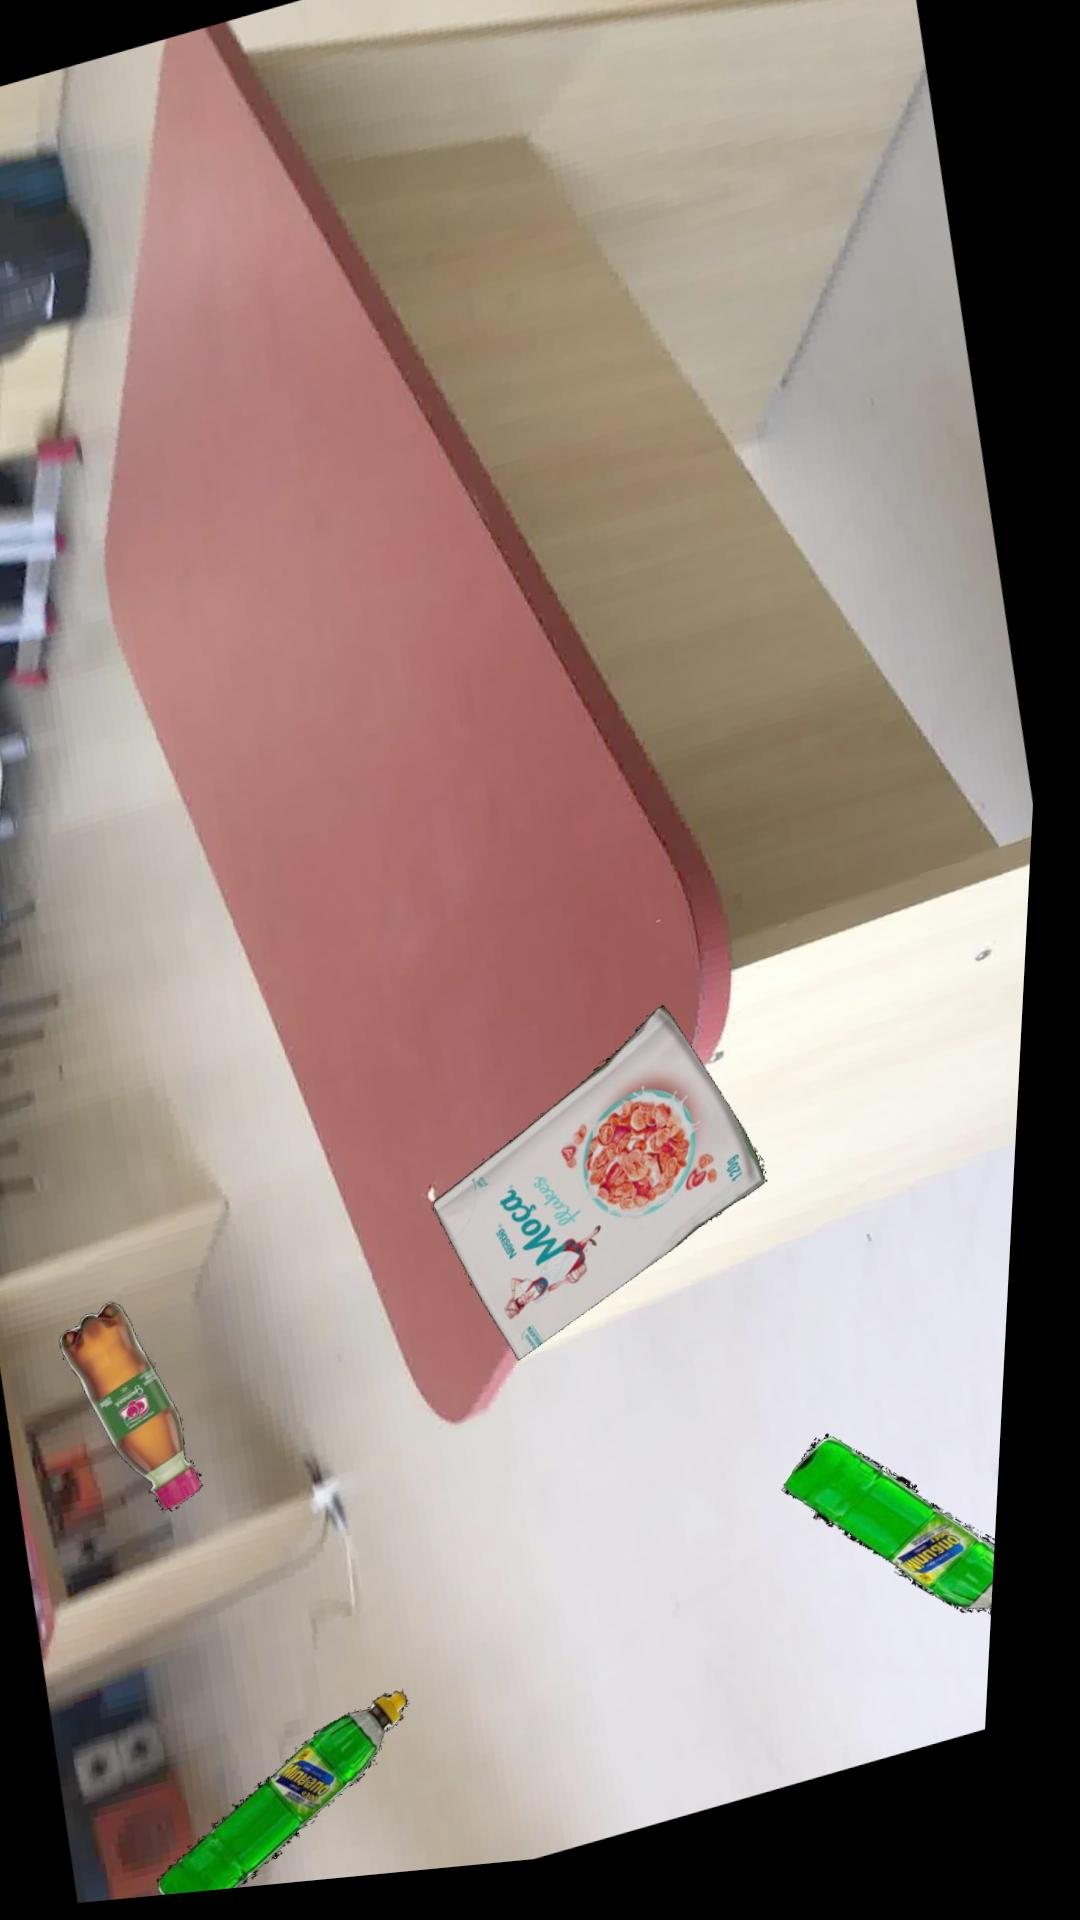cleaner: (178, 1701, 429, 1900), (802, 1452, 1013, 1636)
corn flakes: (448, 1021, 779, 1373)
guarana: (75, 1305, 220, 1516)
